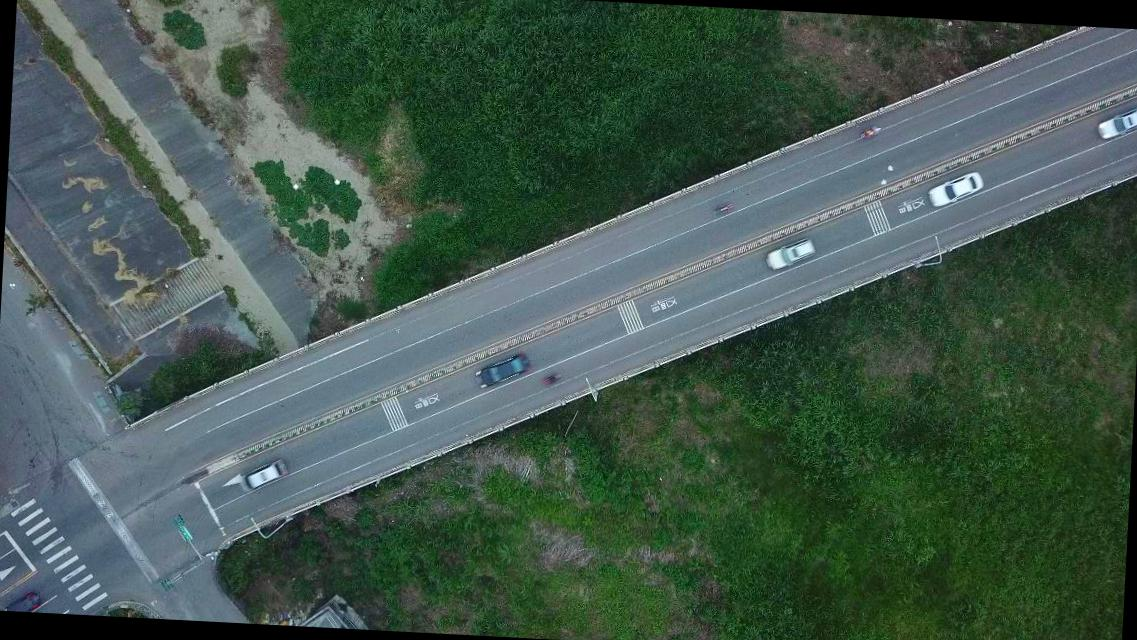vehicle: (924, 168, 985, 212), (474, 352, 530, 392), (760, 236, 815, 275), (237, 456, 288, 494), (1095, 103, 1136, 145), (2, 590, 40, 612)
